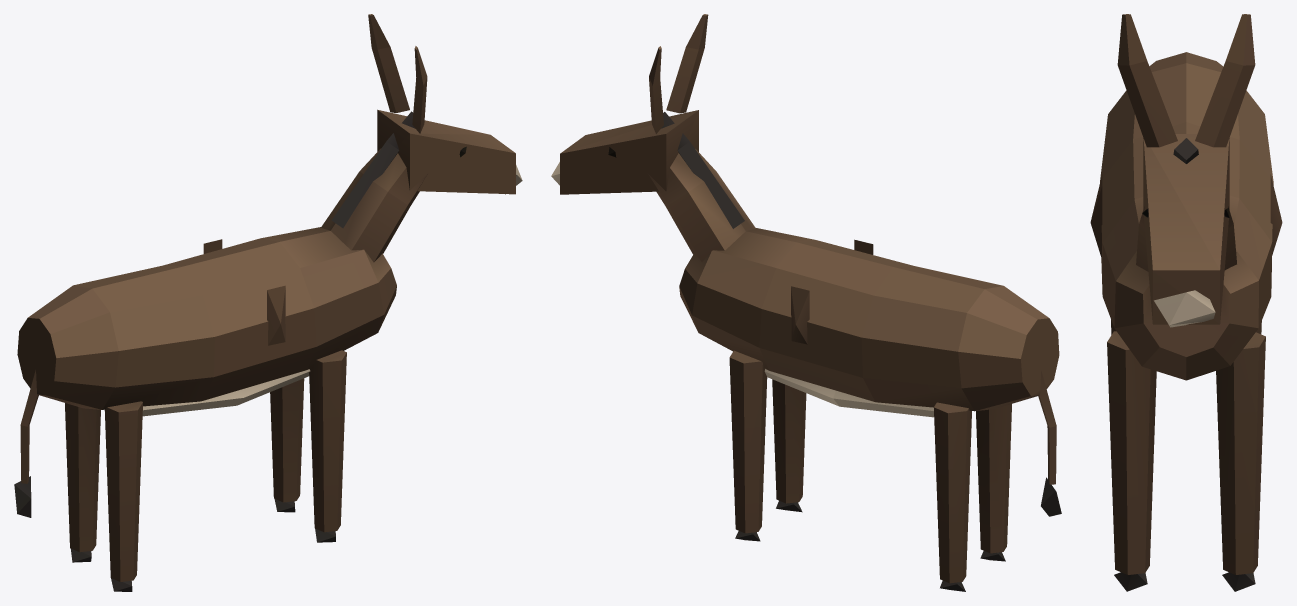
File: mt_donkey_brown.glb
3 renders of one model, left to right at view 1: azimuth 30°, elevation 25°; view 2: azimuth 150°, elevation 25°; view 3: azimuth 270°, elevation 25°, orthographic. The views are drawn at different scales.
Parts seen in each view (by area): view 1: base, head_m, leg3_m, leg1_m, leg2_m, leg0_m, tail_m; view 2: base, head_m, leg2_m, leg0_m, leg3_m, leg1_m, tail_m; view 3: base, head_m, leg0_m, leg1_m.
Part boxes in pixels (x1,y1,x2,y2): base: (17,227,396,416); head_m: (321,14,522,262); leg3_m: (104,401,142,591); leg1_m: (309,350,346,542); leg2_m: (65,403,100,562); leg0_m: (270,378,304,512); tail_m: (14,370,38,517); base: (679,228,1059,417); head_m: (551,14,755,261); leg2_m: (934,402,971,591); leg0_m: (729,350,767,541); leg3_m: (976,404,1011,561); leg1_m: (772,379,806,512); tail_m: (1038,371,1061,516); base: (1090,52,1282,380); head_m: (1117,14,1255,327); leg0_m: (1216,332,1265,591); leg1_m: (1107,331,1156,591).
Size of the model in its own units: 0.6377 by 0.5796 by 0.16.
